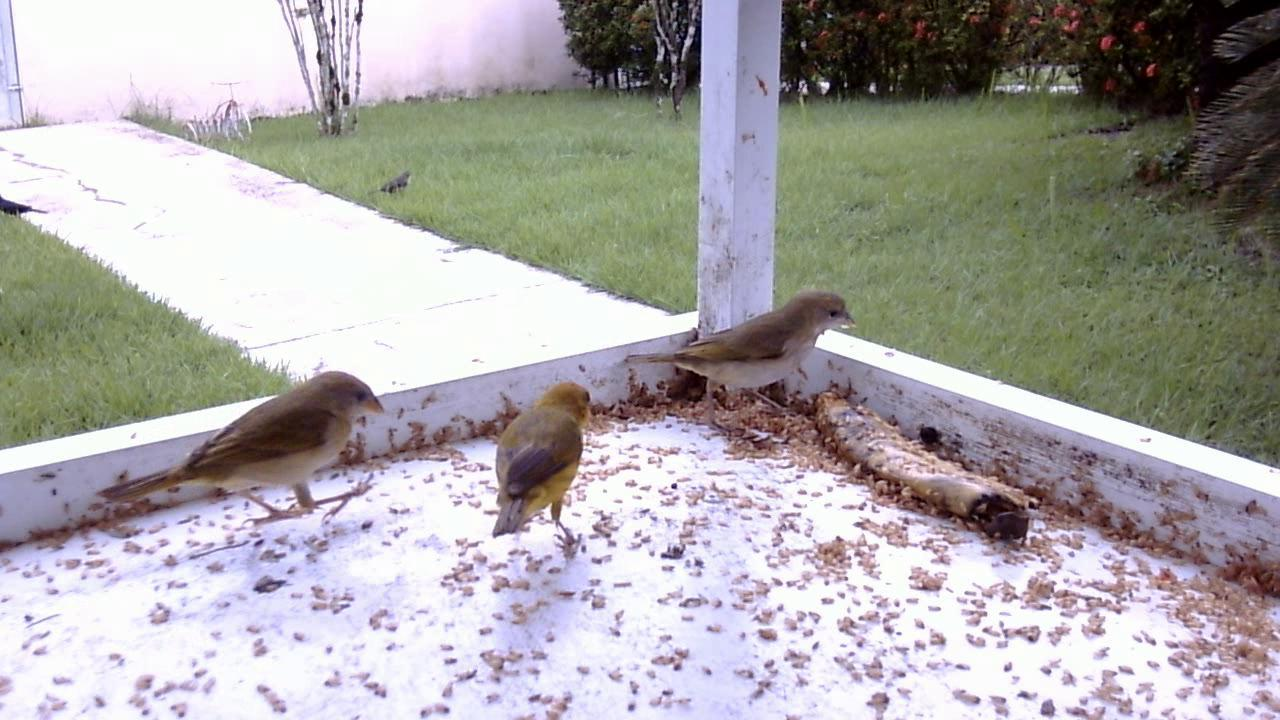canario_do_amazonas: (91, 363, 395, 541), (651, 283, 854, 428), (480, 373, 597, 551)
